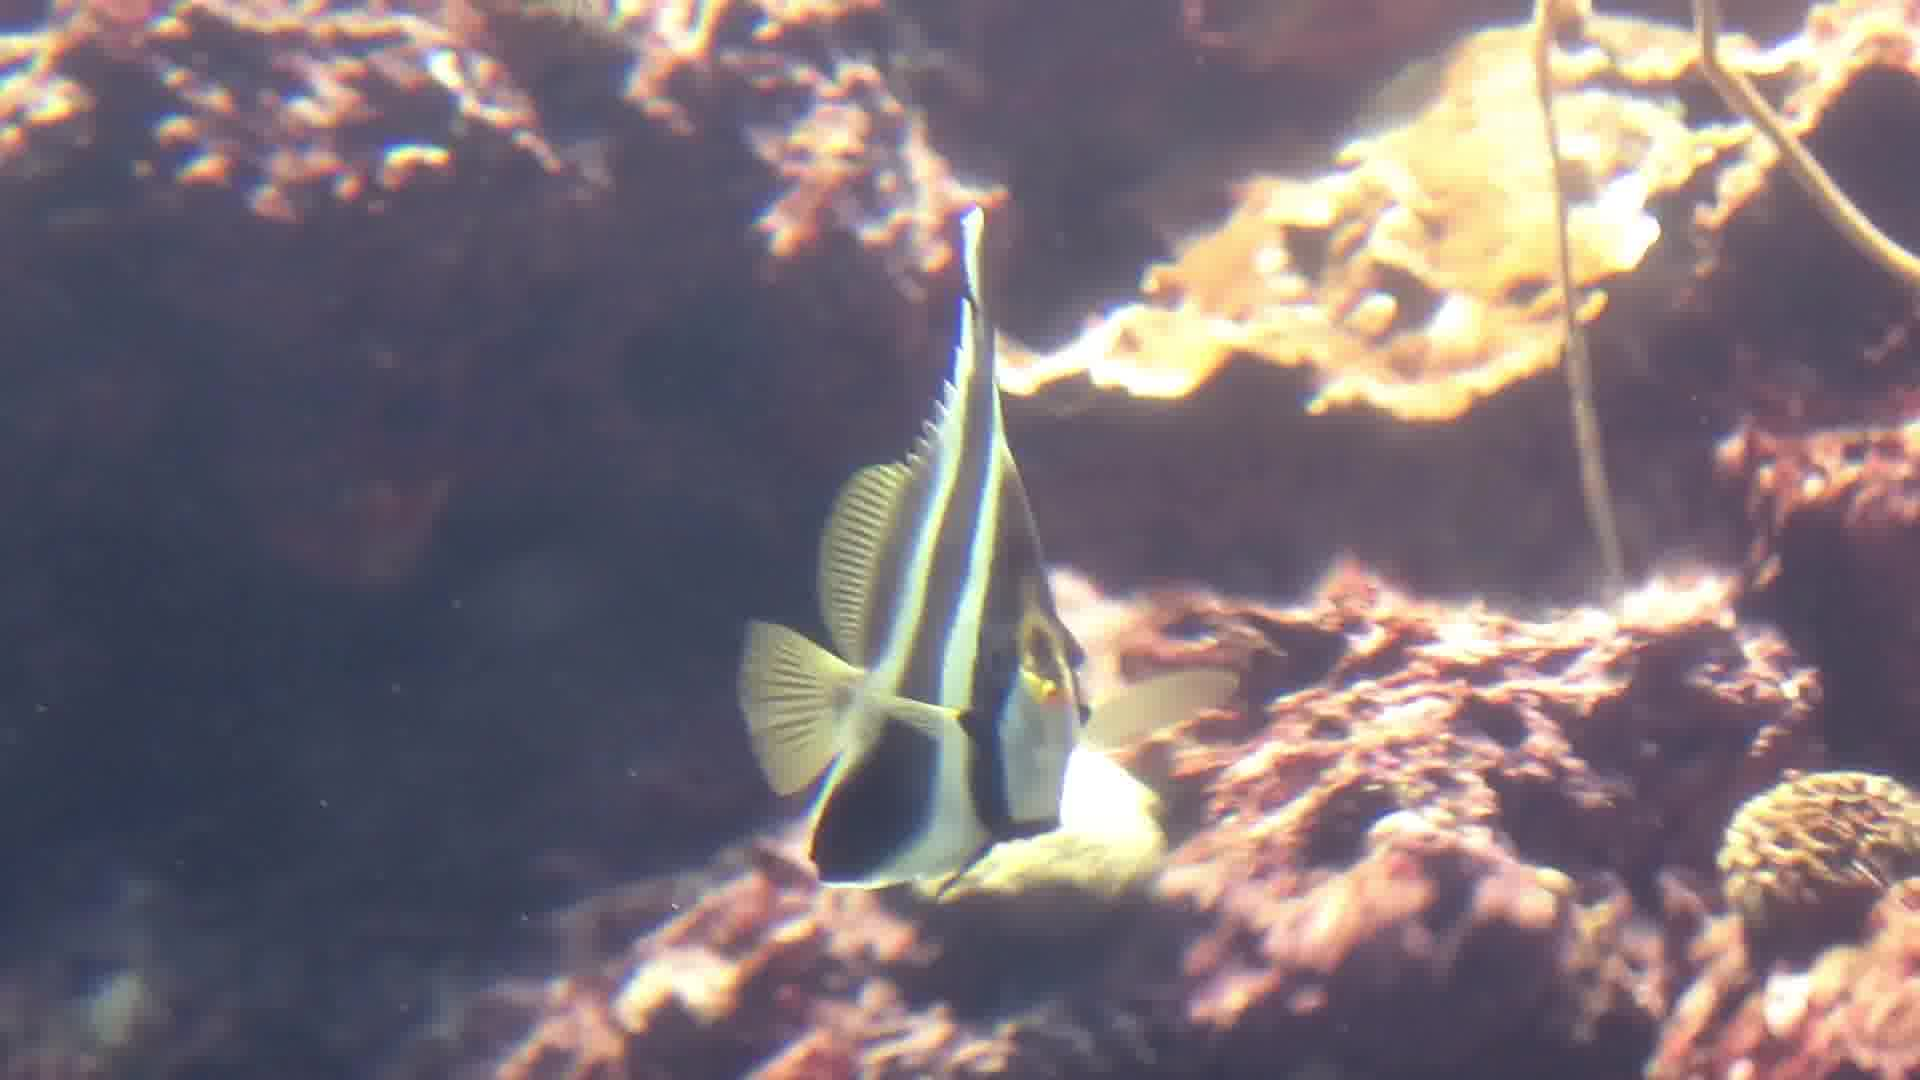Heniochus chrysostomus: (538, 165, 1296, 938)
